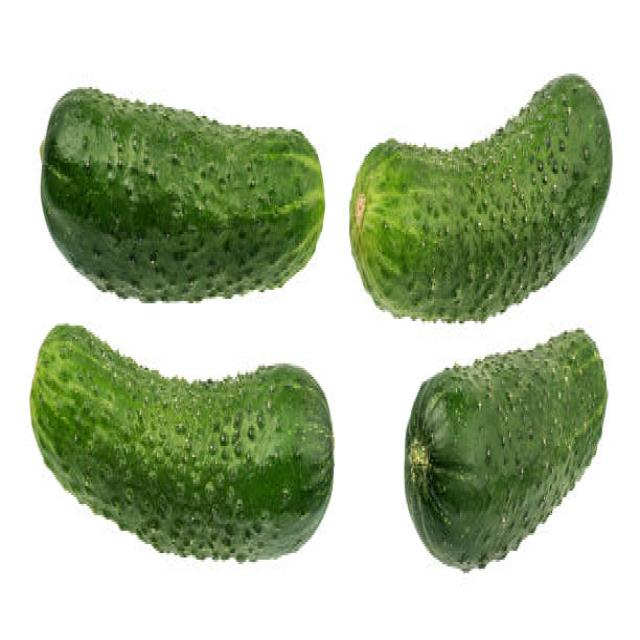cucumber: (30, 321, 335, 565), (350, 72, 613, 322), (41, 90, 326, 302), (404, 327, 608, 570)
